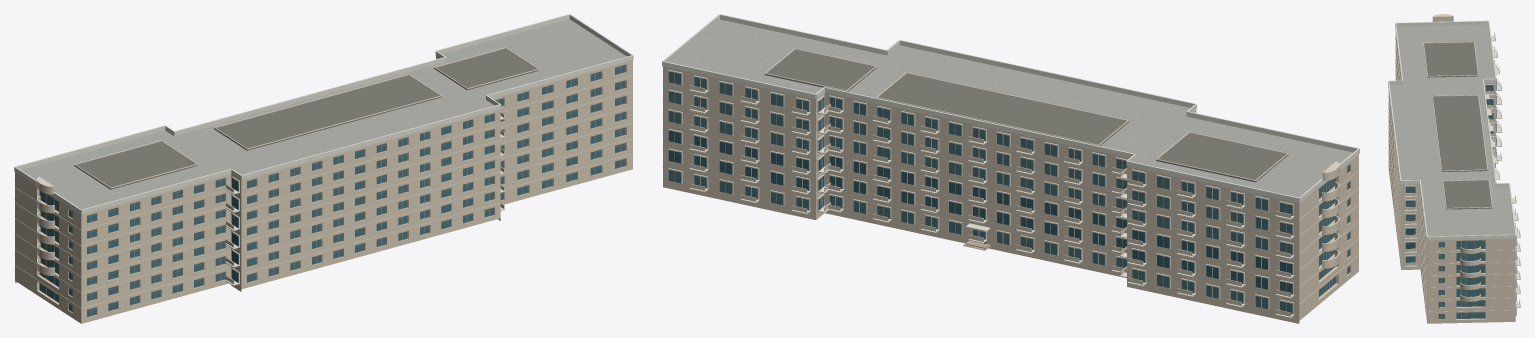
Rendered from chunk-dorm-way-760176670.glb.
The picture shows the model from 3 angles, left to right: view 1: azimuth 30°, elevation 25°; view 2: azimuth 150°, elevation 25°; view 3: azimuth 270°, elevation 25°; orthographic projection. The views are drawn at different scales.
Parts seen in each view (by area): view 1: chunk-dorm-way-760176670; view 2: chunk-dorm-way-760176670; view 3: chunk-dorm-way-760176670.
Part boxes in pixels (x1,y1,x2,y2): chunk-dorm-way-760176670: (14,14,633,323); chunk-dorm-way-760176670: (662,14,1359,323); chunk-dorm-way-760176670: (1388,14,1520,323).
Bounding box in the file's own units: 111 × 22.3 × 28.46.
10 materials, 2 textured.
